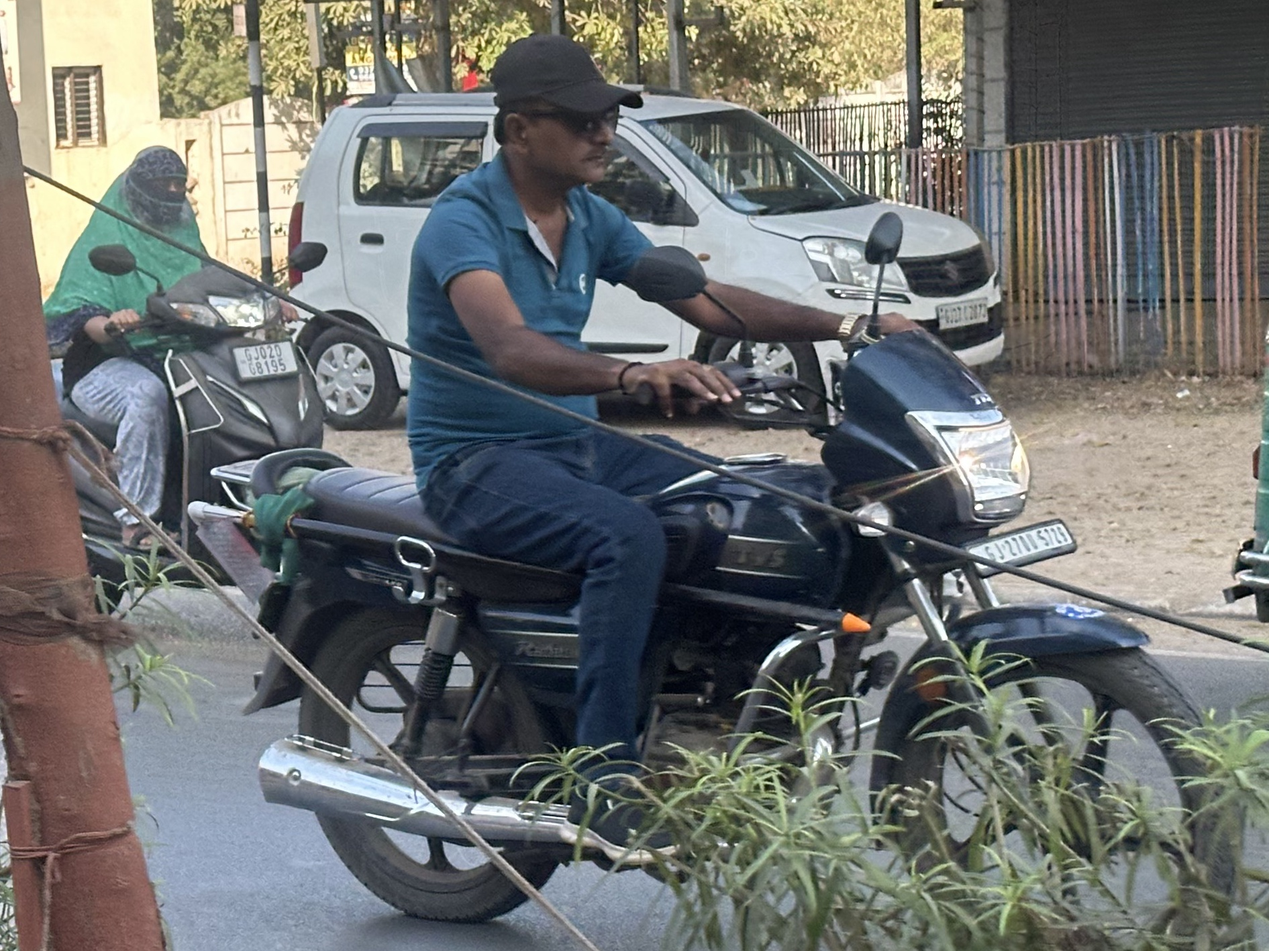BikeWithRider: (227, 15, 1252, 950), (0, 115, 401, 656)
NoHelmet: (476, 15, 658, 207), (110, 133, 209, 230)
